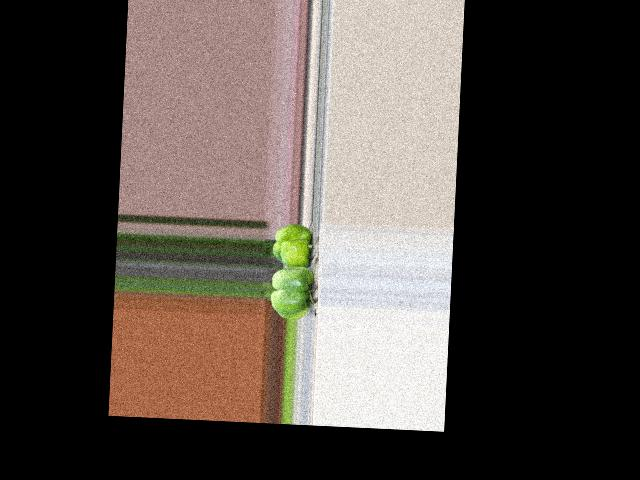bell_pepper: (270, 221, 316, 268)
